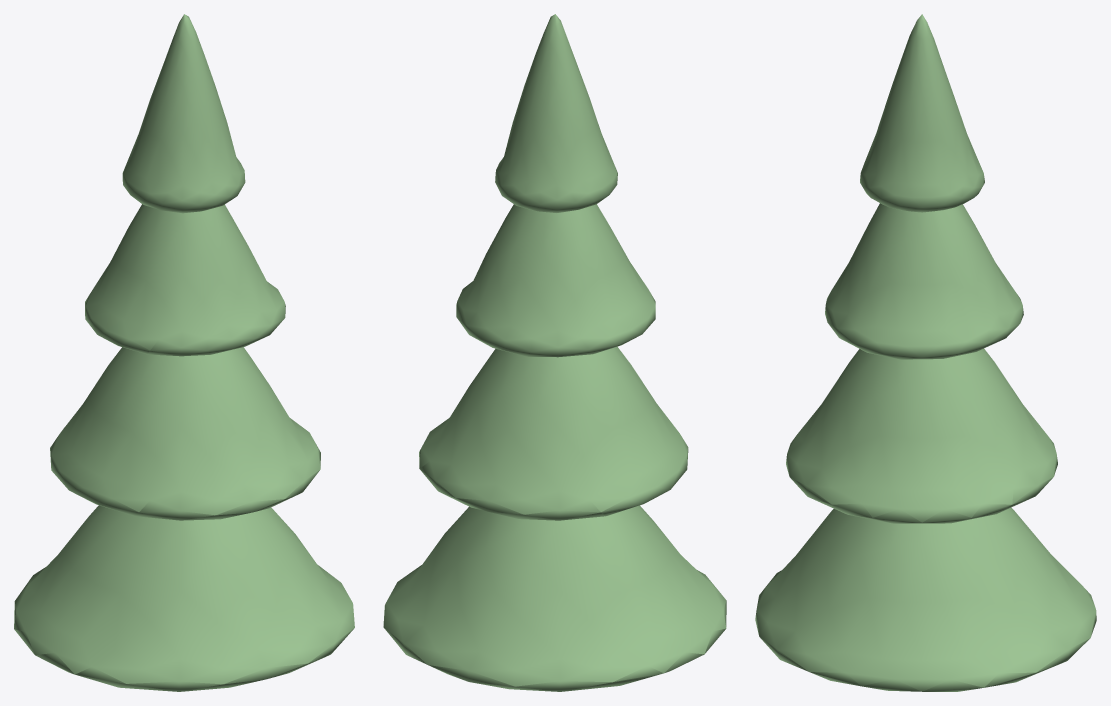
The model's file is tree-conifer-e-crown.glb.
3 views of the same model, side by side, from view 1: azimuth 30°, elevation 25°; view 2: azimuth 150°, elevation 25°; view 3: azimuth 270°, elevation 25° (orthographic).
Visible parts, largest first — view 1: tree-conifer-e-crown; view 2: tree-conifer-e-crown; view 3: tree-conifer-e-crown.
Part boxes in pixels (bbox=[...]): tree-conifer-e-crown: bbox=[14, 14, 354, 691]; tree-conifer-e-crown: bbox=[383, 14, 726, 691]; tree-conifer-e-crown: bbox=[755, 14, 1096, 691].
Size of the model in its own units: 0.3953 by 0.7969 by 0.3939.
